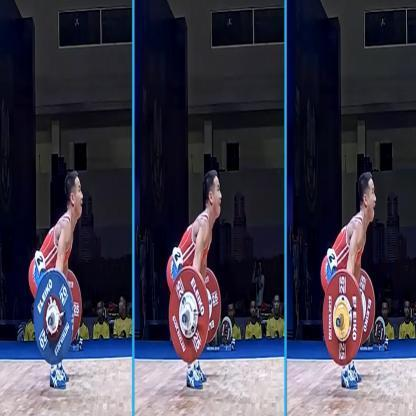barbell: (167, 265, 223, 364), (321, 269, 376, 367), (31, 268, 84, 366)
